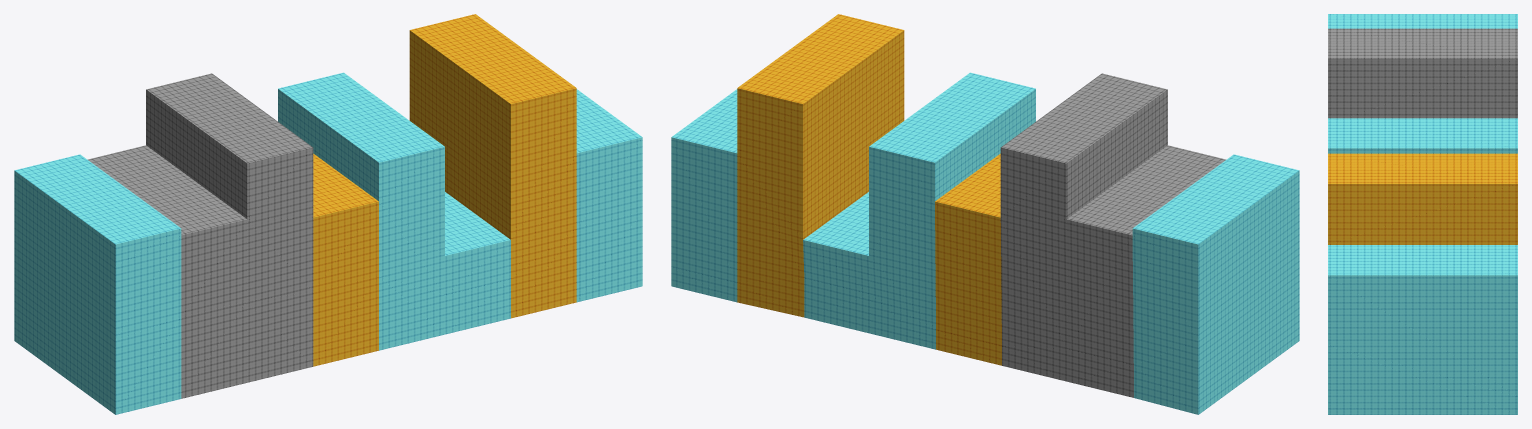
The model's file is EDIFICIOS_B.fbx.
3 renders of one model, left to right at view 1: azimuth 30°, elevation 25°; view 2: azimuth 150°, elevation 25°; view 3: azimuth 270°, elevation 25°, orthographic. The views are drawn at different scales.
Parts seen in each view (by area): view 1: EDIFICIOS_B; view 2: EDIFICIOS_B; view 3: EDIFICIOS_B.
Boxes of the visible parts, bbox=[...] form: EDIFICIOS_B: bbox=[14, 14, 642, 414]; EDIFICIOS_B: bbox=[671, 14, 1299, 414]; EDIFICIOS_B: bbox=[1328, 14, 1517, 414].
Size of the model in its own units: 82.9 by 32.95 by 27.58.
